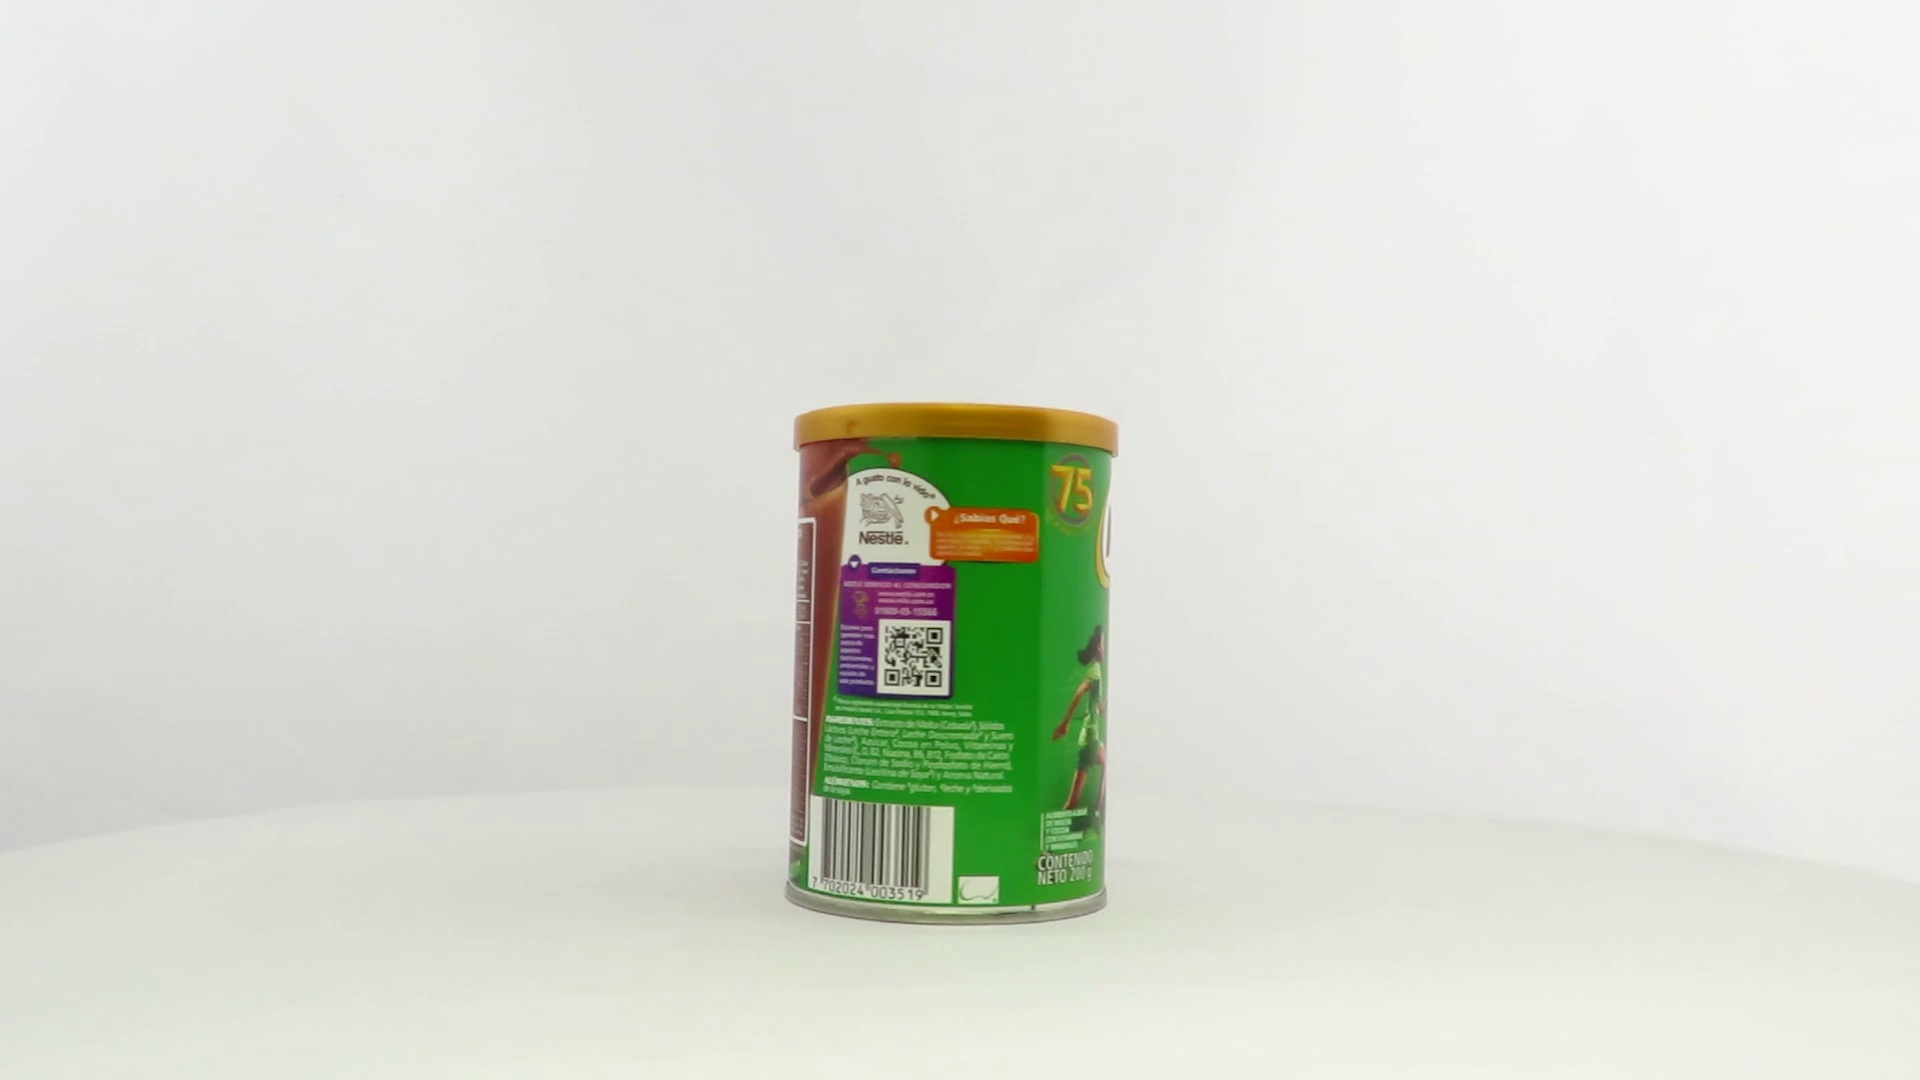COL0170203LAT20000: (779, 397, 1125, 932)
